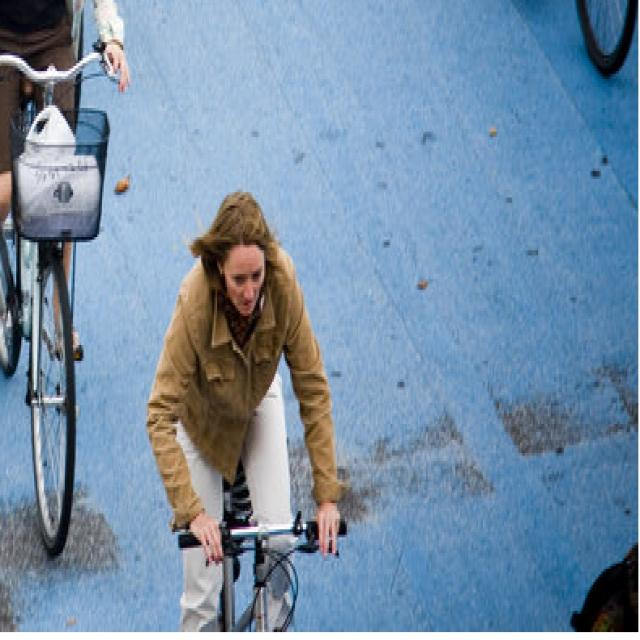bicycle: (0, 0, 115, 561), (440, 0, 640, 84)
